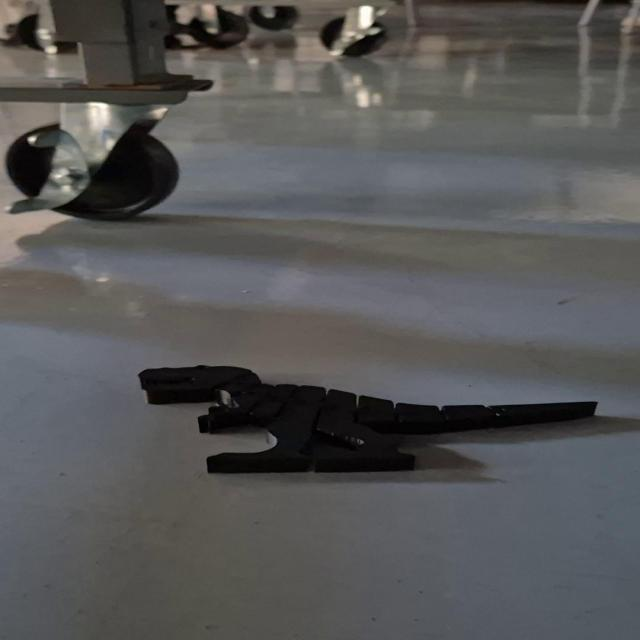dino: (136, 364, 599, 474)
